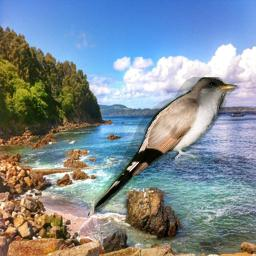Cuckoo: (88, 77, 239, 216)
